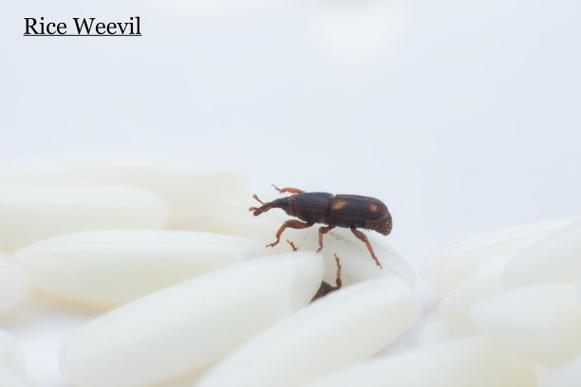Curculionidae: (248, 182, 394, 272)
